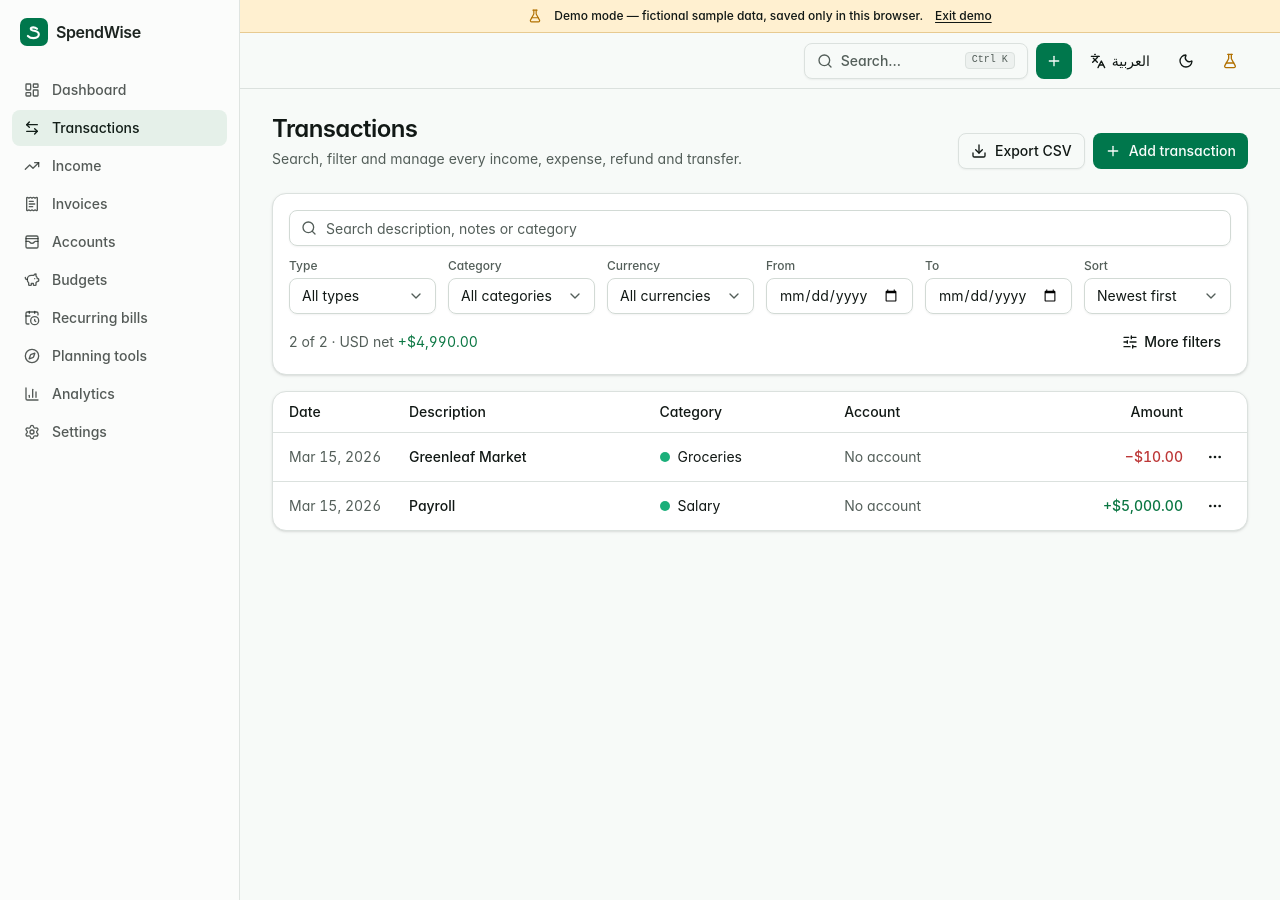
Test: Transactions page › searches and filters, and explains when nothing matches
In the search field named "Search transactions": (760, 228) 289,210 -> 1231,246, type "greenleaf"
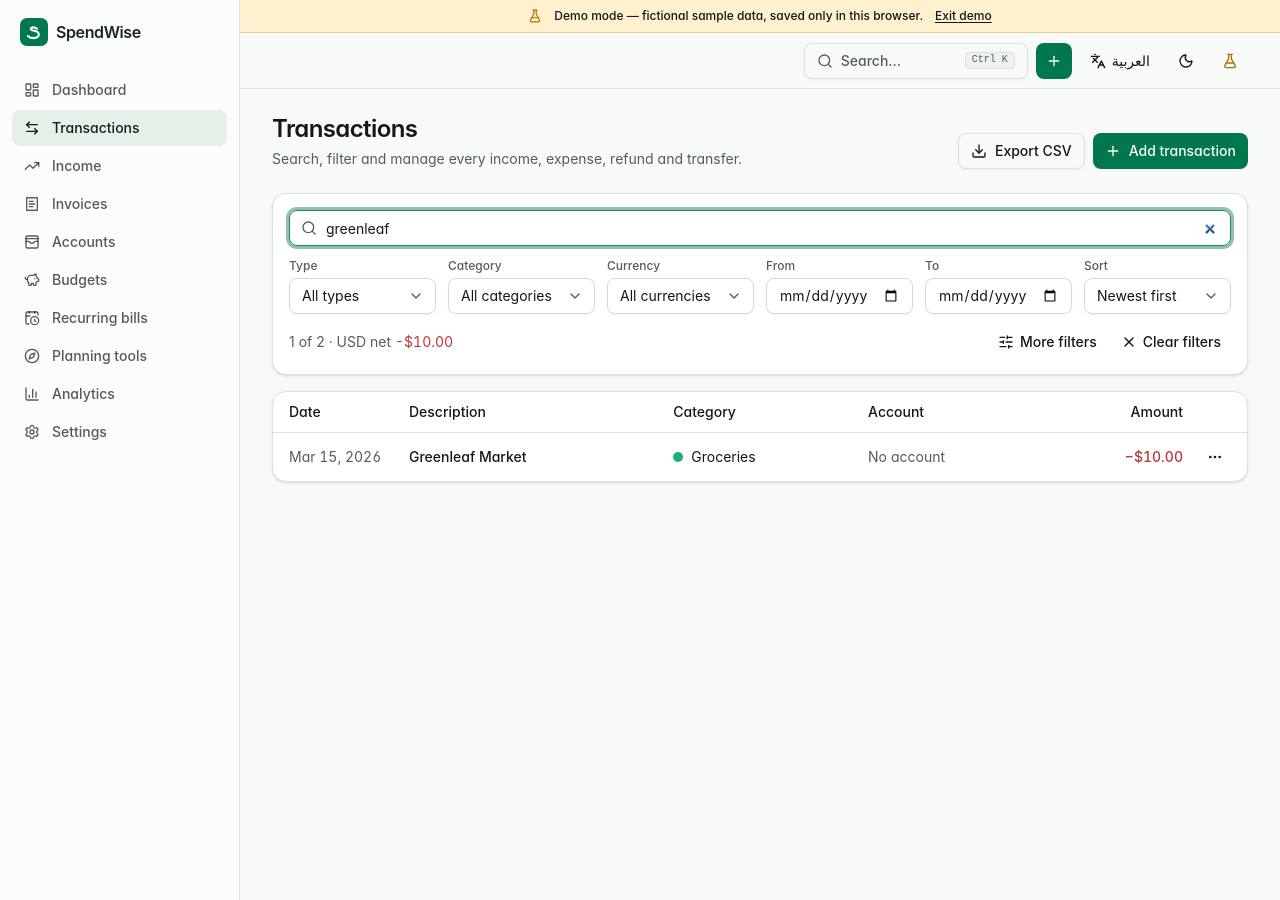
Result: the text with test id "tx-count" reads "1 of 2" at 289,333 -> 325,350
Clear the search field named "Search transactions": (760, 228) 289,210 -> 1231,246
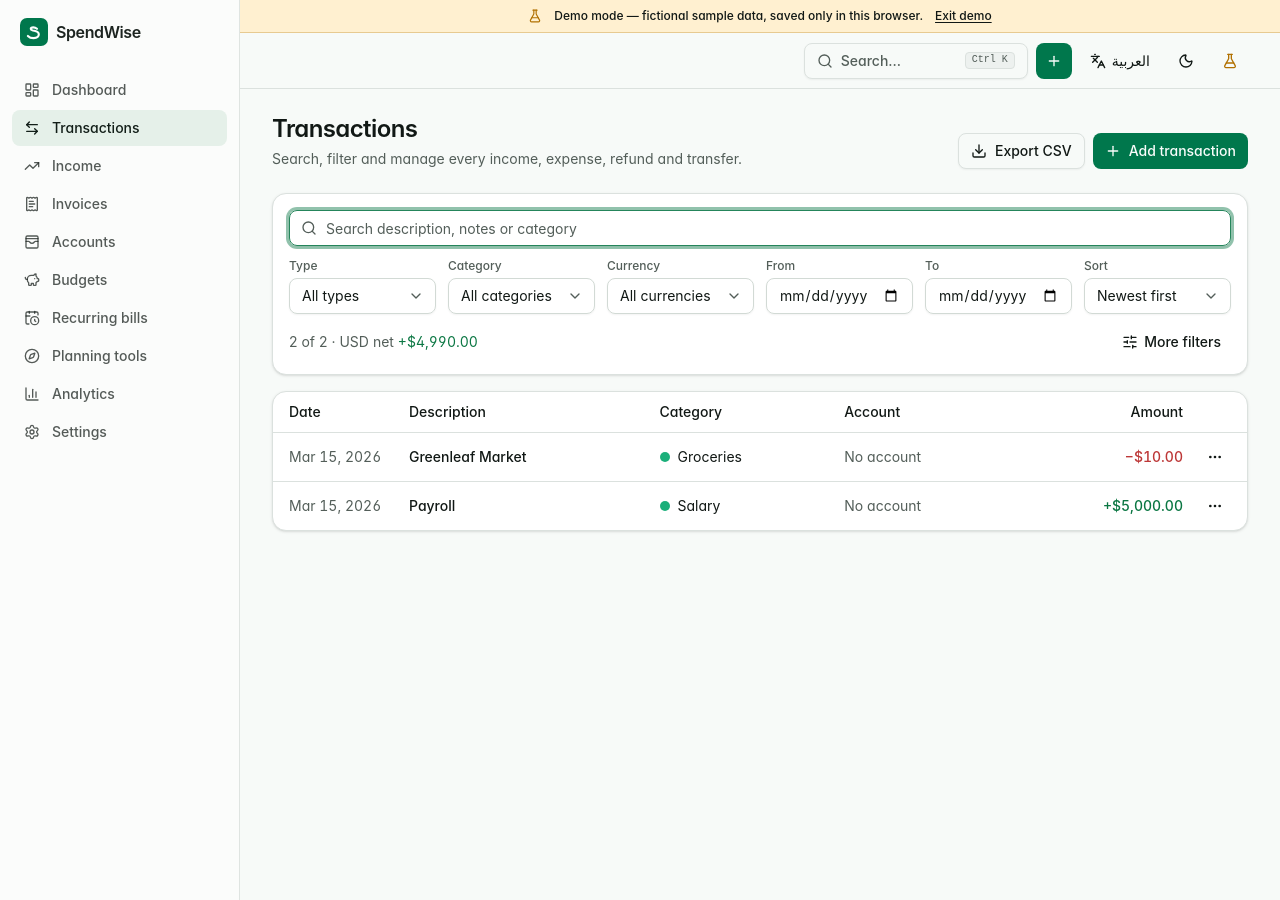
Select "Income" in the dropdown labelled "Type": (362, 296) 289,278 -> 436,314
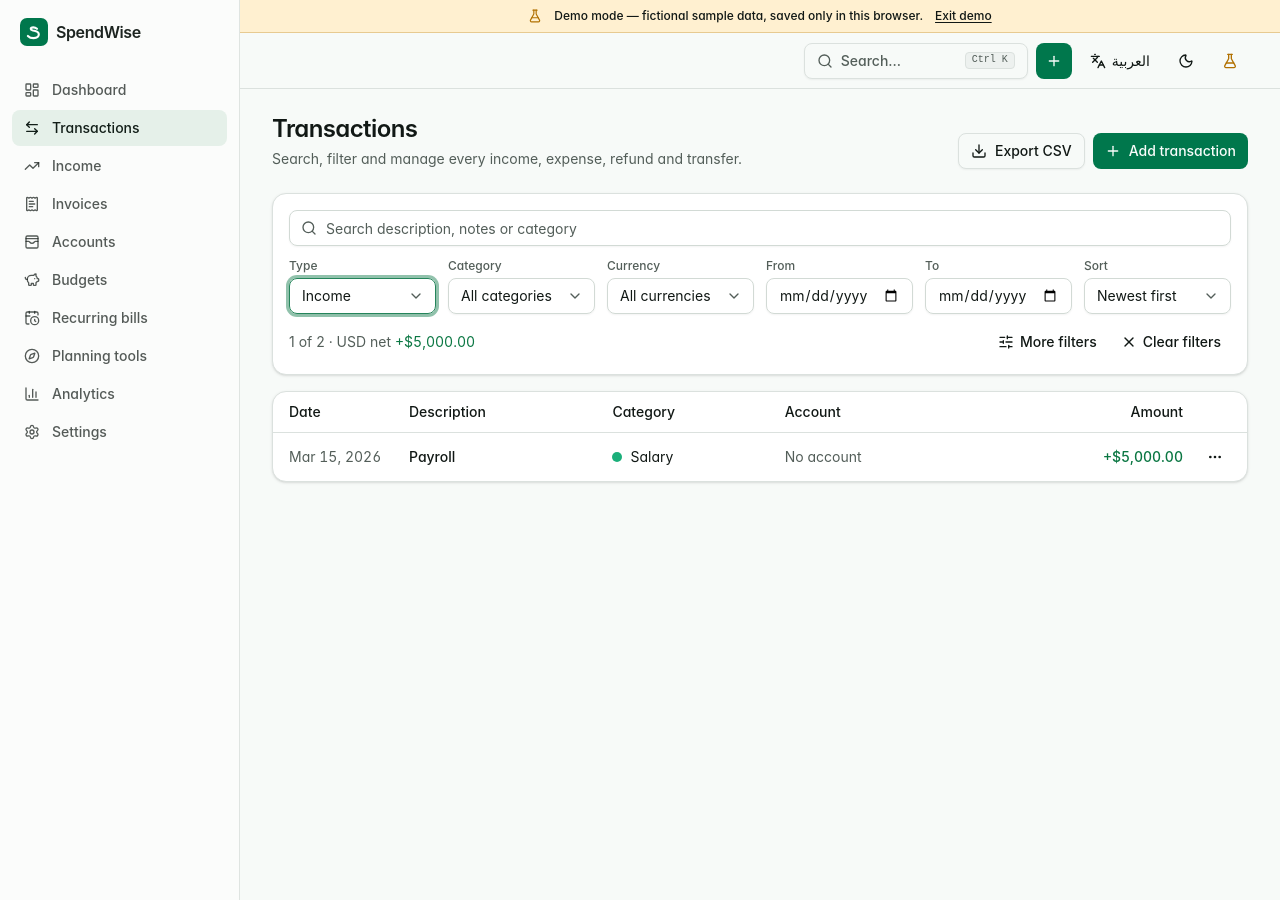
Result: the text with test id "tx-count" reads "1 of 2" at 289,333 -> 325,350
In the search field named "Search transactions": (760, 228) 289,210 -> 1231,246, type "nothing-like-this"
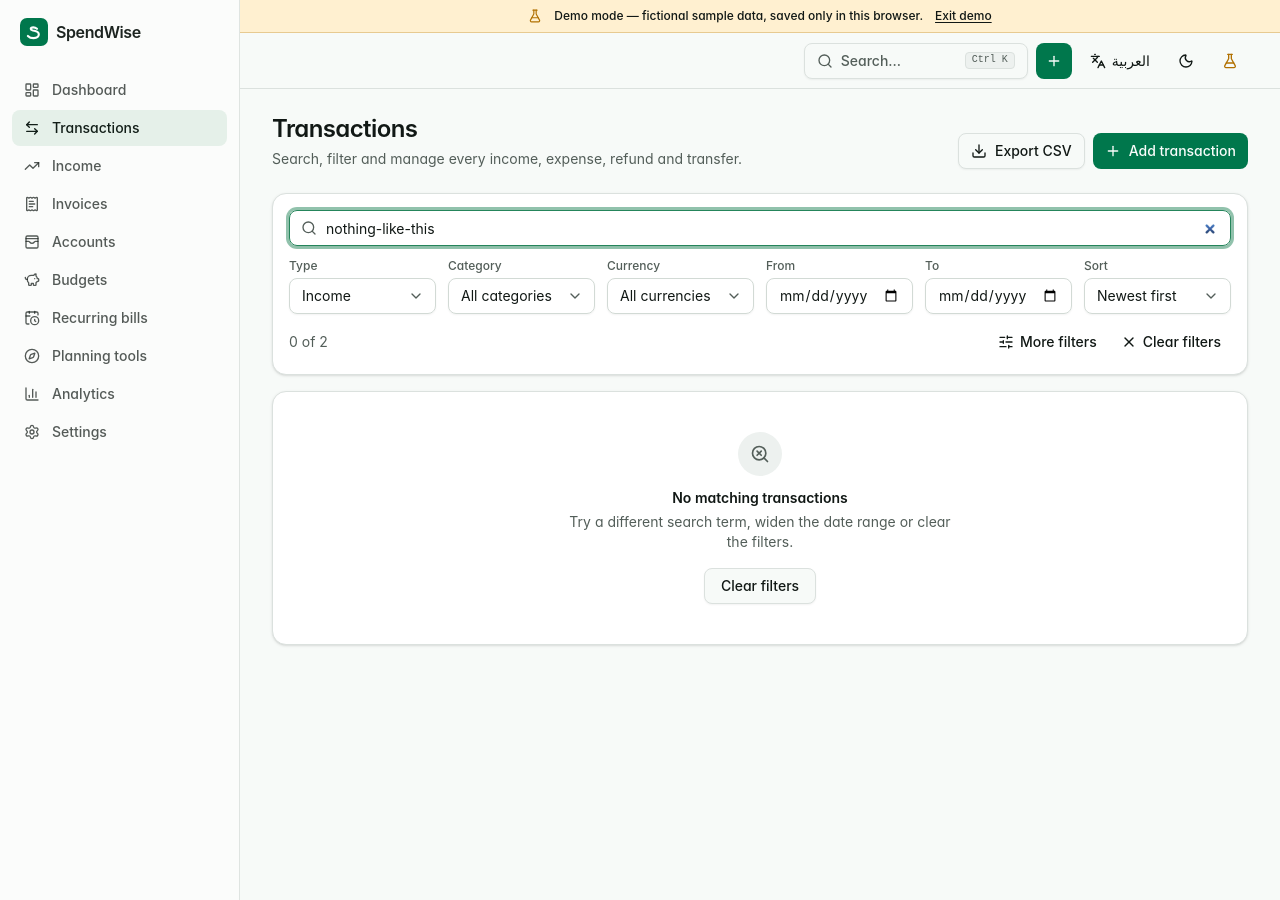
Result: the heading "No matching transactions" is shown at 672,488 -> 848,508
